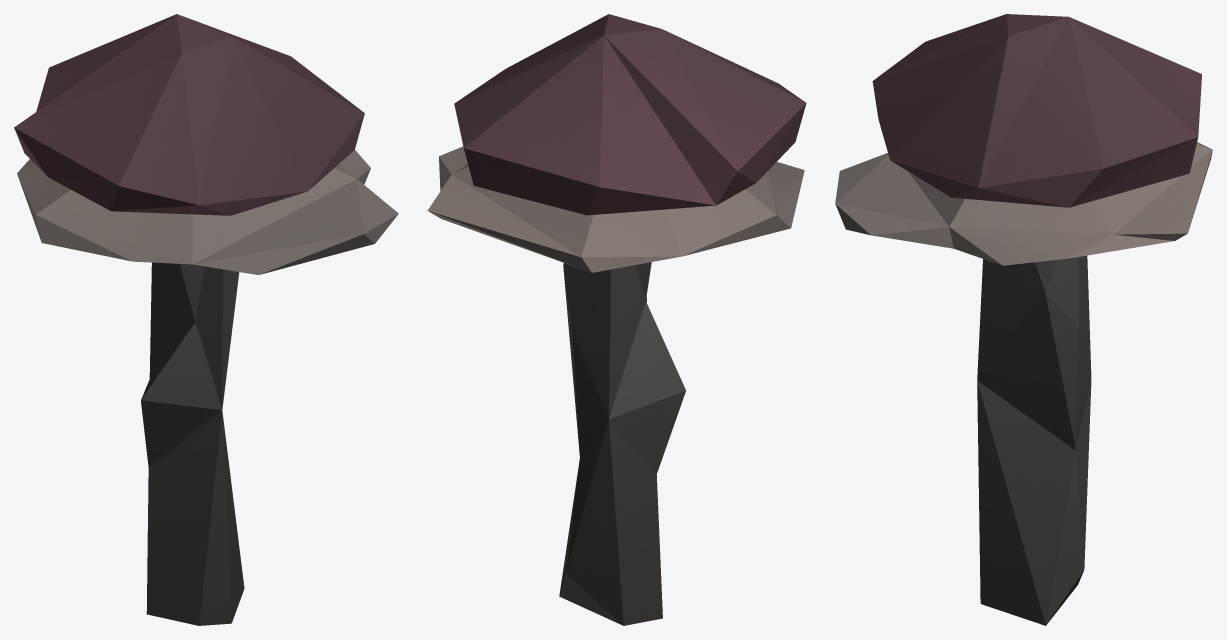
Rendered from Mush_2_LOD.fbx.
3 renders of one model, left to right at view 1: azimuth 30°, elevation 25°; view 2: azimuth 150°, elevation 25°; view 3: azimuth 270°, elevation 25°, orthographic.
Visible parts, largest first — view 1: polySurface1316; view 2: polySurface1316; view 3: polySurface1316.
Boxes of the visible parts, x1,y1,x2,y2 form: polySurface1316: [14, 14, 398, 625]; polySurface1316: [427, 14, 806, 625]; polySurface1316: [835, 14, 1212, 625].
Size of the model in its own units: 1.43 by 2.44 by 1.43.
